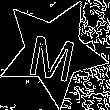M_N: (25, 22, 80, 81)
